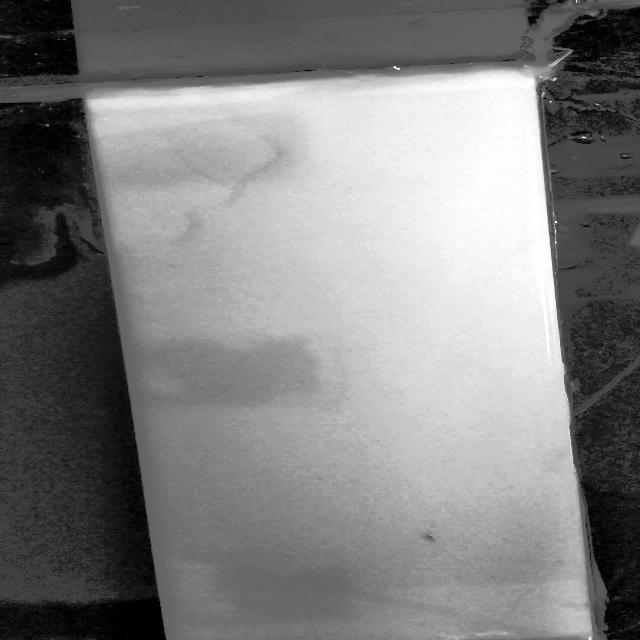shrimp: (417, 528, 446, 546)
